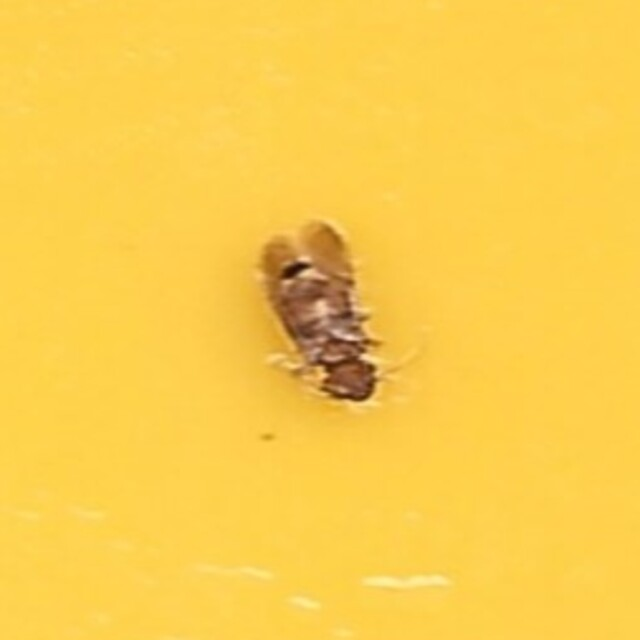Hemiptera: (253, 217, 387, 423)
